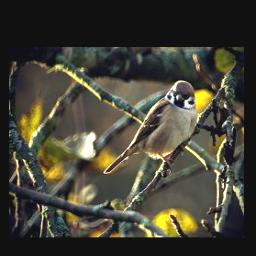Sparrow: (103, 78, 197, 176)
